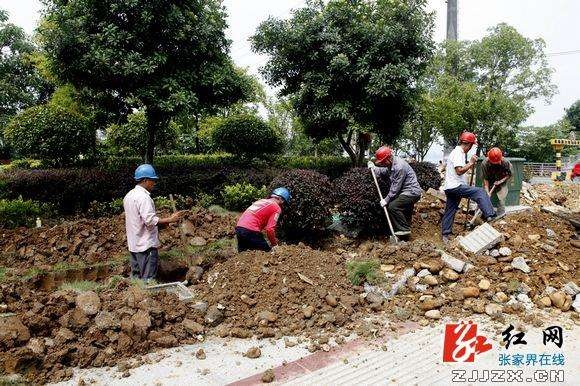blue: (132, 161, 157, 192), (267, 186, 290, 208)
red: (372, 144, 394, 169), (456, 131, 477, 154), (486, 144, 504, 166)
